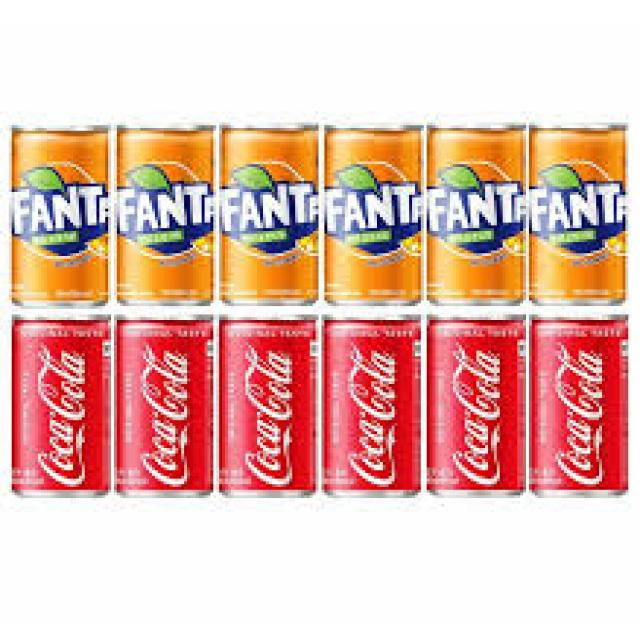Coca-Cola: (6, 313, 114, 504), (418, 318, 530, 497), (530, 315, 636, 503), (319, 318, 425, 505), (112, 314, 216, 502), (218, 314, 320, 501)
